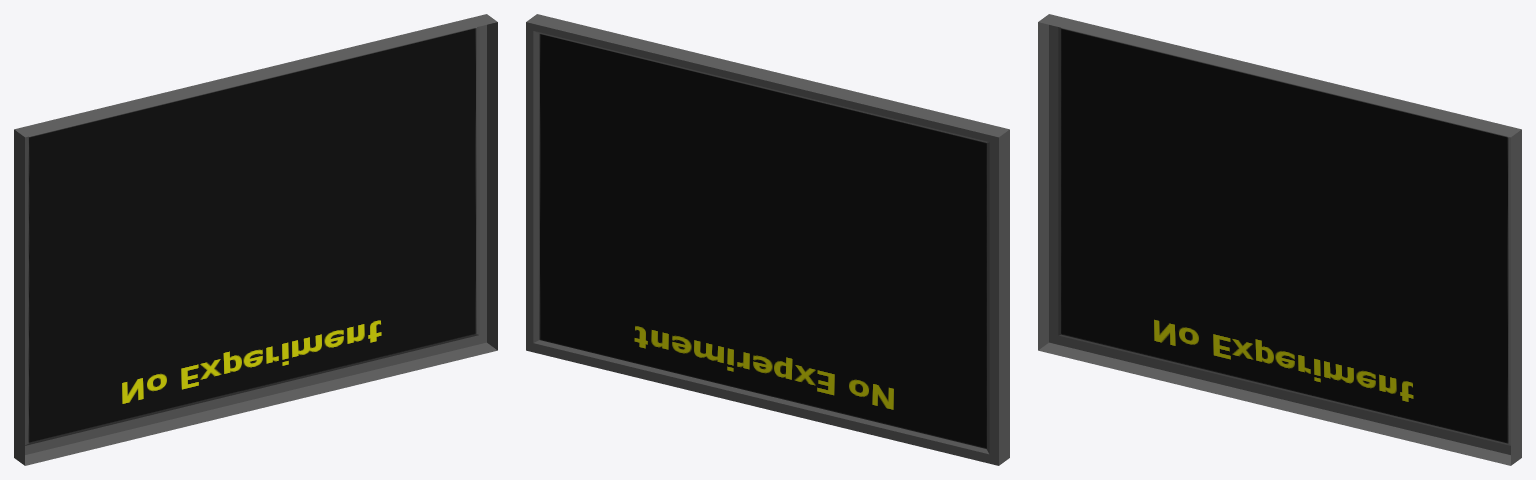
The model's file is MEP IVA Screen.fbx.
3 renders of one model, left to right at view 1: azimuth 30°, elevation 25°; view 2: azimuth 150°, elevation 25°; view 3: azimuth 330°, elevation 25°, orthographic.
Parts seen in each view (by area): view 1: Screen1; view 2: Screen1; view 3: Screen1.
Boxes of the visible parts, x1=… form: Screen1: x1=14, y1=14, x2=497, y2=465; Screen1: x1=526, y1=14, x2=1009, y2=465; Screen1: x1=1038, y1=14, x2=1521, y2=465.
Size of the model in its own units: 0.2373 by 0.1576 by 0.0096.
